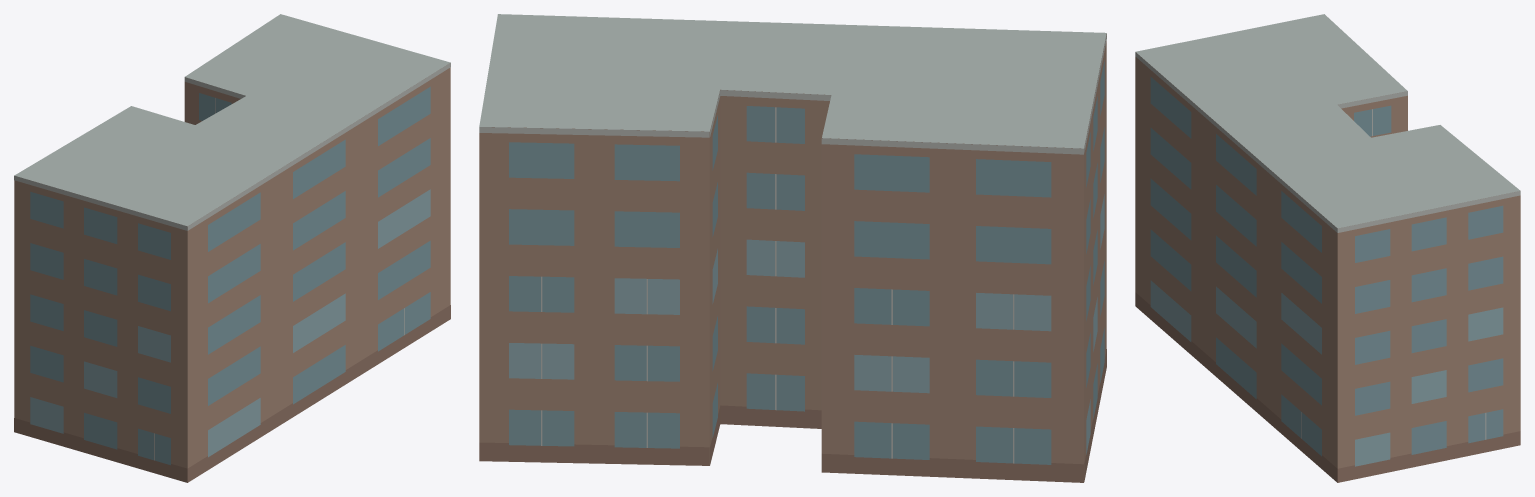
File: survey-upis-32705708.glb
3 renders of one model, left to right at view 1: azimuth 30°, elevation 25°; view 2: azimuth 150°, elevation 25°; view 3: azimuth 270°, elevation 25°, orthographic. The views are drawn at different scales.
Visible parts, largest first — view 1: survey-upis-32705708.tmp; view 2: survey-upis-32705708.tmp; view 3: survey-upis-32705708.tmp.
Part boxes in pixels (x1=…): survey-upis-32705708.tmp: x1=14, y1=14, x2=450, y2=482; survey-upis-32705708.tmp: x1=479, y1=14, x2=1106, y2=482; survey-upis-32705708.tmp: x1=1135, y1=14, x2=1520, y2=482.
Bounding box in the file's own units: 24.23 × 13.4 × 18.4.
